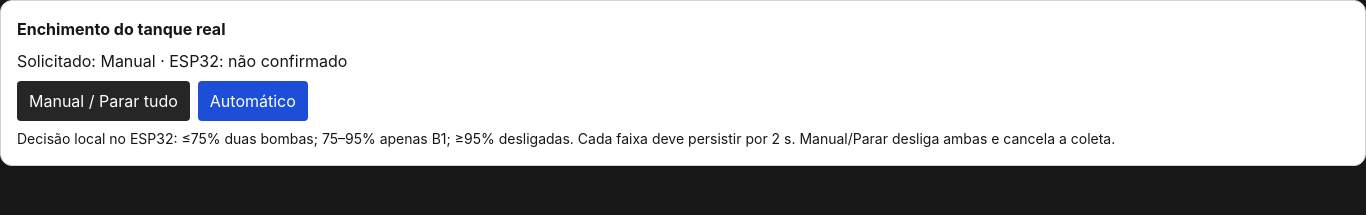
Test: failed enable is visible and never displayed as applied
The width and height of the screenshot is (1366, 215).
Click the button "Automático": (253, 101) x1=198 y1=81 x2=308 y2=121
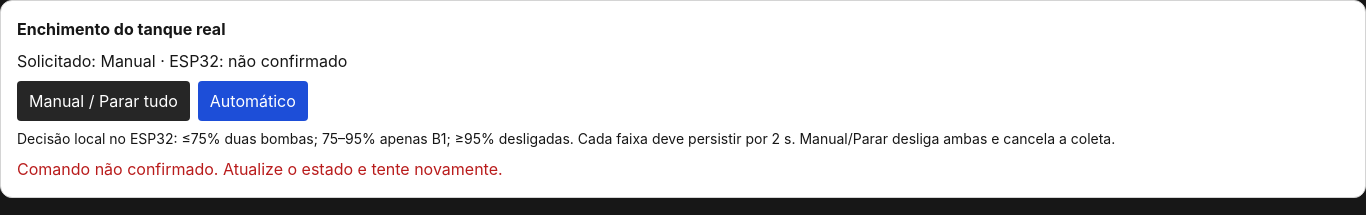
Check: the message "Comando não confirmado. Atualize o estado e tente novamente." is shown, box x1=17 y1=159 x2=503 y2=179
